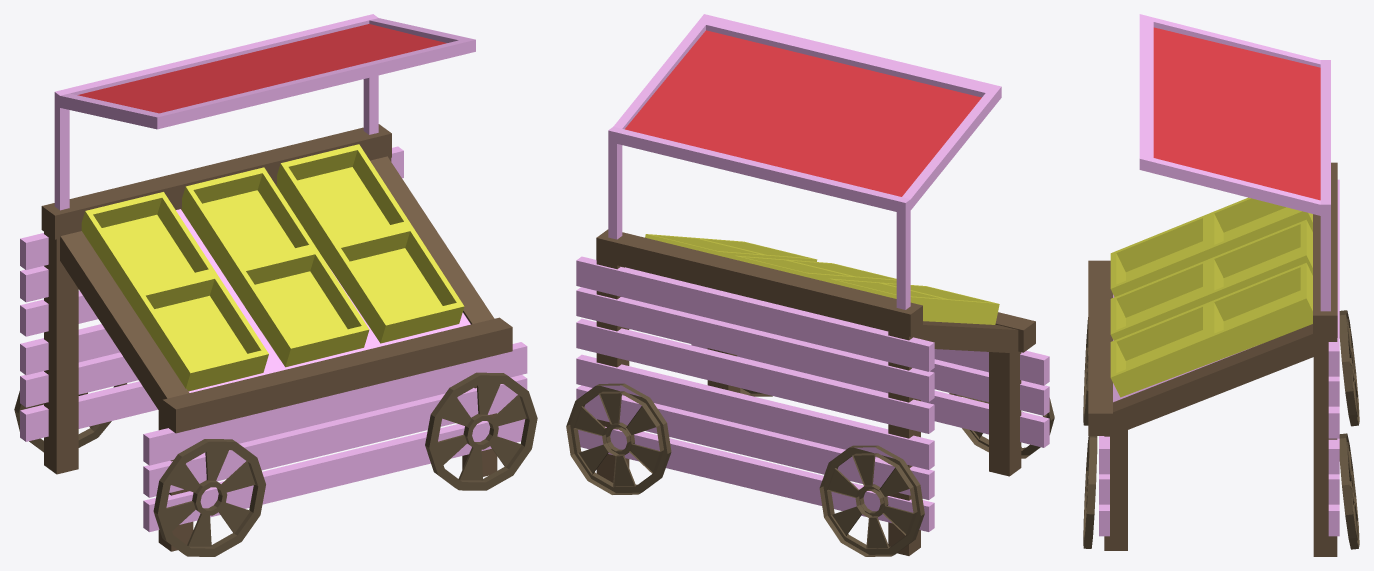
The model's file is CartPlayerRed 2.fbx.
The picture shows the model from 3 angles, left to right: view 1: azimuth 30°, elevation 25°; view 2: azimuth 150°, elevation 25°; view 3: azimuth 270°, elevation 25°; orthographic projection. The views are drawn at different scales.
Parts seen in each view (by area): view 1: Cart; view 2: Cart; view 3: Cart.
Part boxes in pixels (x1,y1,x2,y2): Cart: [14, 14, 537, 556]; Cart: [566, 14, 1054, 556]; Cart: [1083, 14, 1359, 556].
Size of the model in its own units: 7.02 by 7.47 by 4.73.
